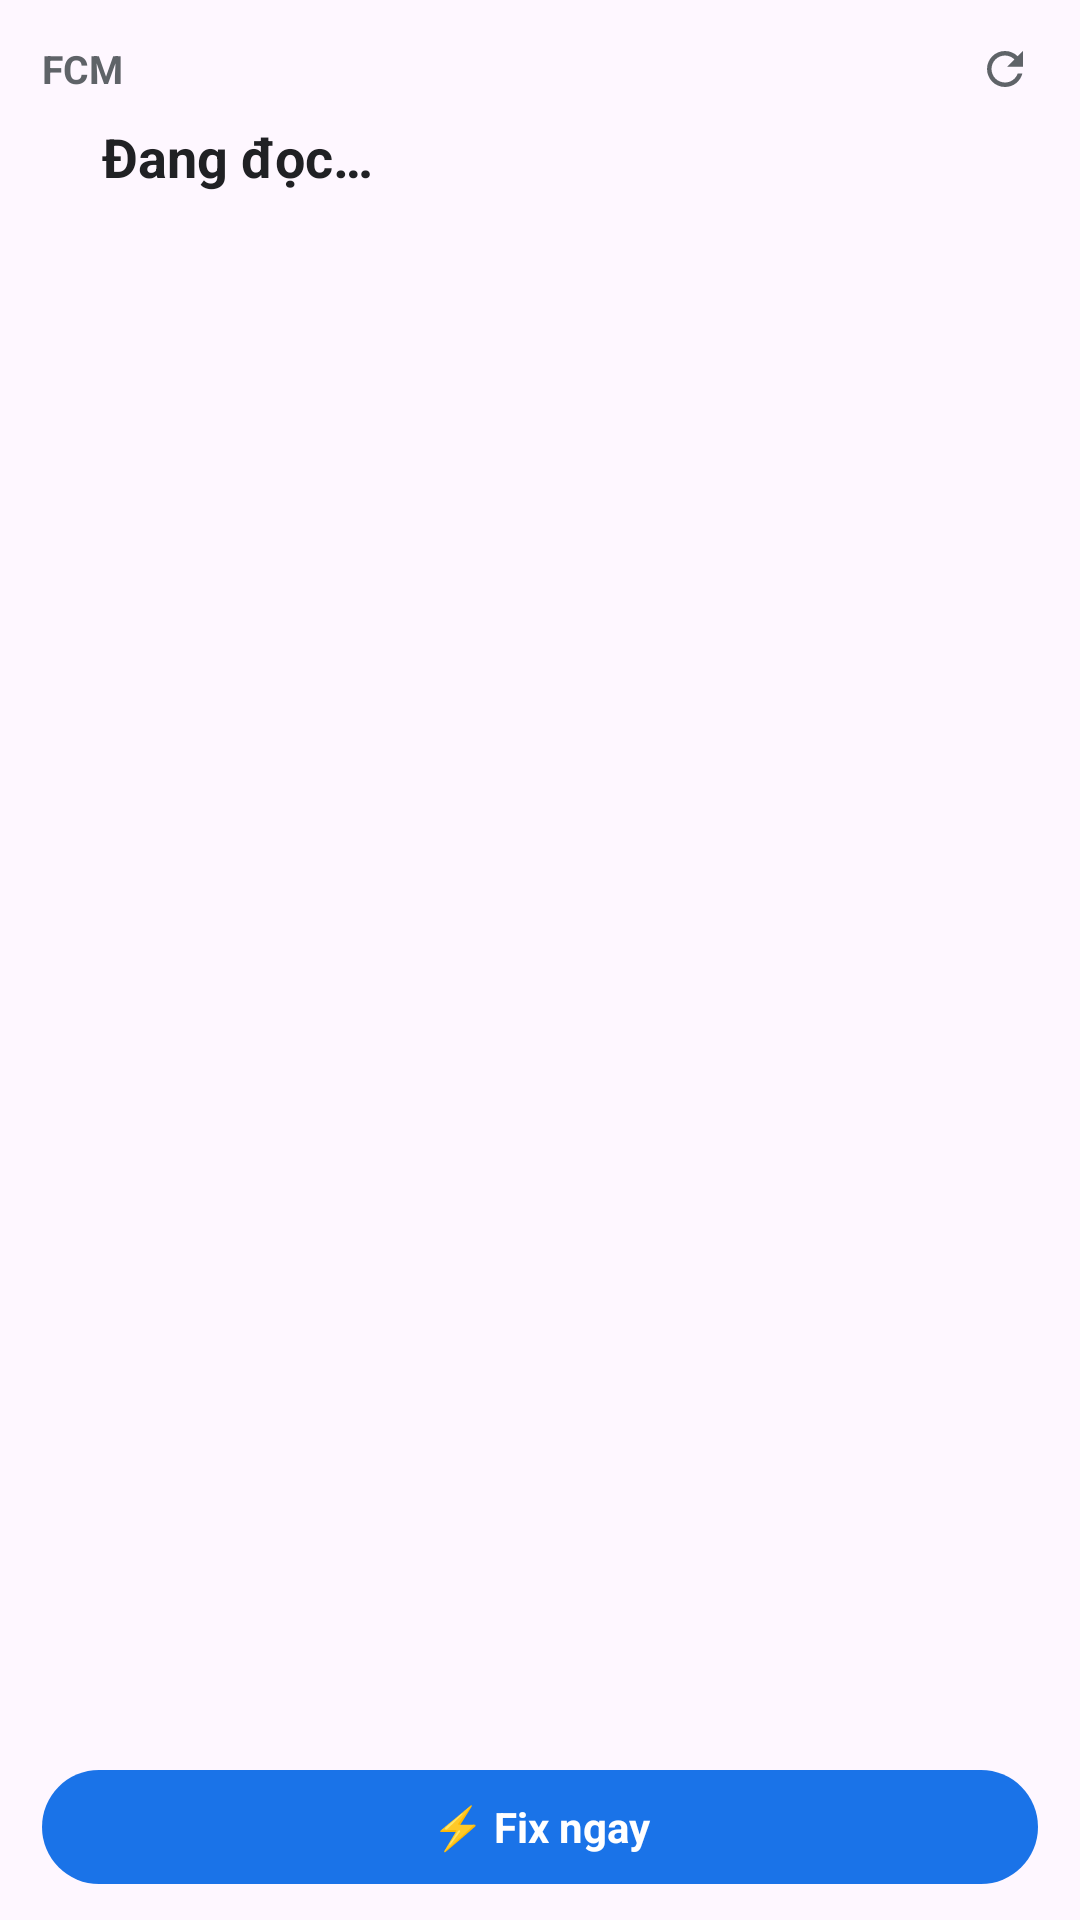

Icon bounding boxes for this 1080*1920 phone screenshot, format box(x1, y1, x2, y2):
Làm mới: box(987, 51, 1023, 87)
